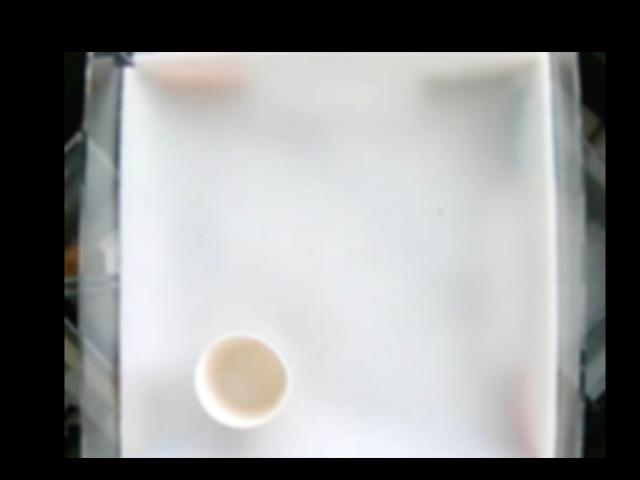Cup: (193, 330, 291, 427)
